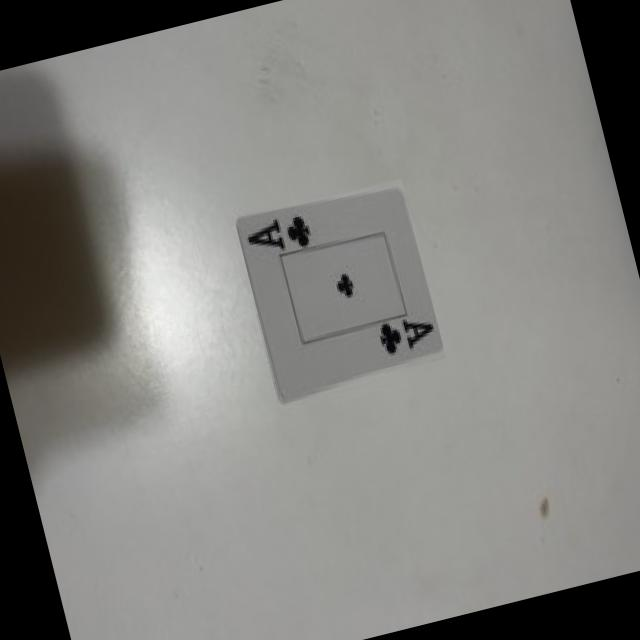Ace of clubs: (236, 190, 441, 398)
